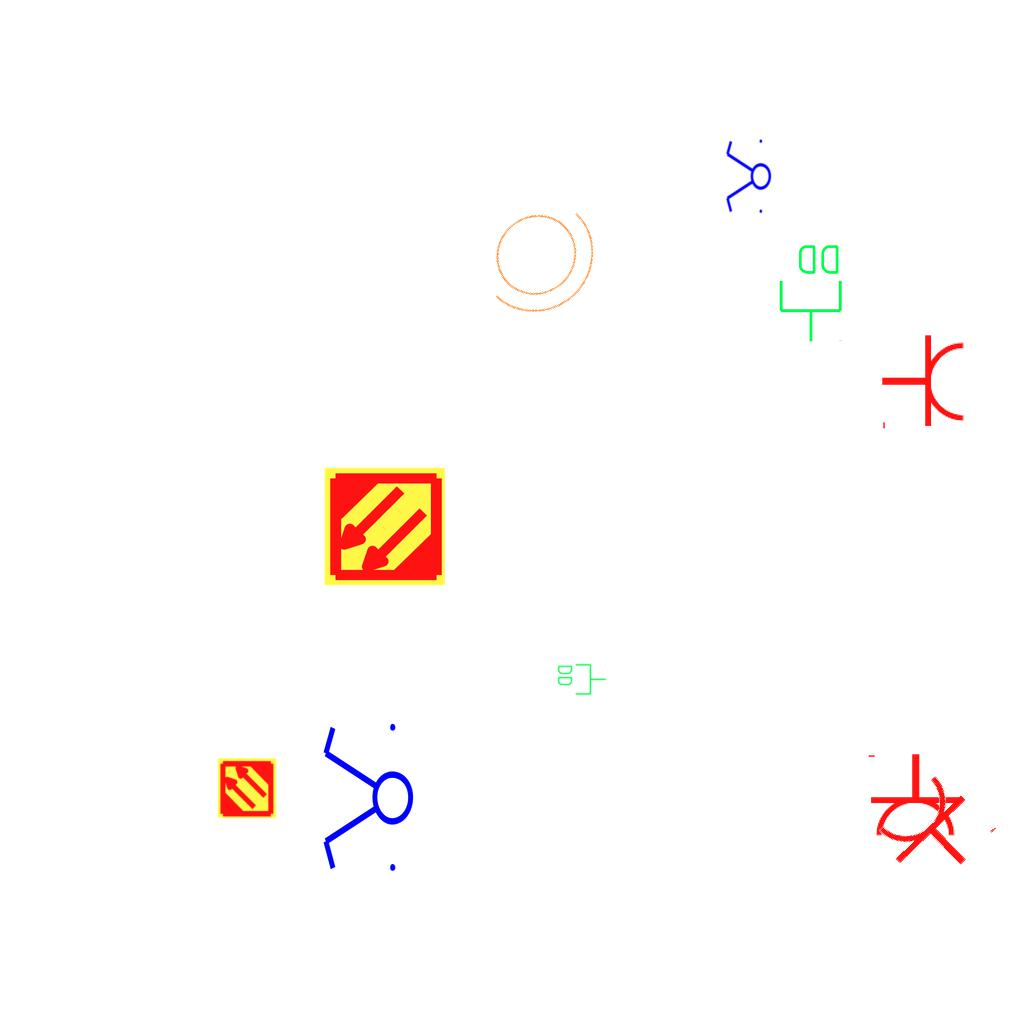ASR_Ansaugrauchmelder: (322, 464, 447, 589), (216, 757, 278, 819)
Datenanschluss_zweifach: (777, 241, 846, 344), (556, 662, 607, 696)
Scheinwerfer_fuer_Alarmbeleuchtung: (455, 169, 629, 343)
Schukosteckdose_einfach: (869, 764, 1002, 898), (880, 333, 967, 433), (864, 752, 964, 839)
Serienschalter: (319, 715, 415, 883), (724, 135, 772, 219)
